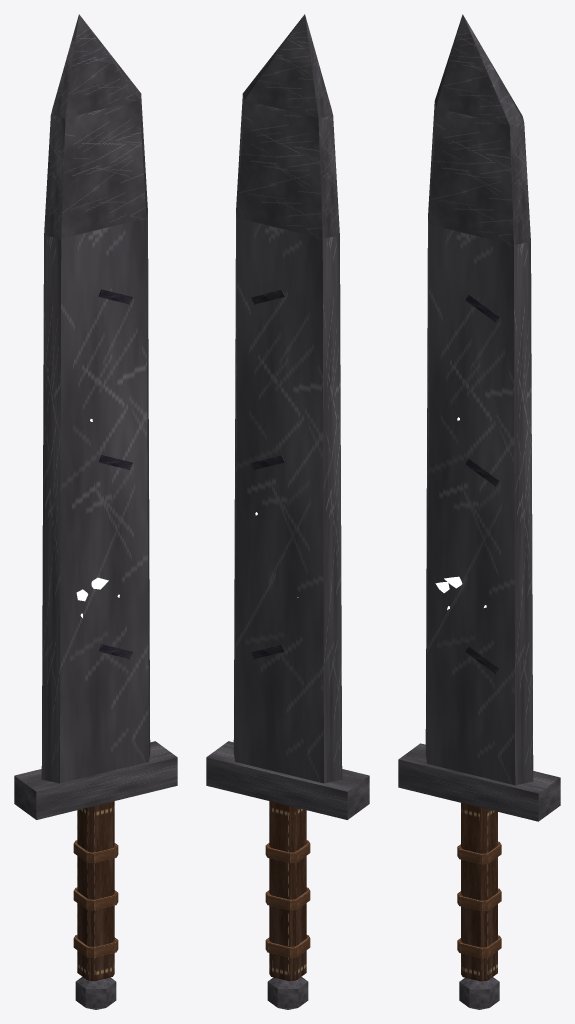
The model's file is DragonSlayer.fbx.
3 renders of one model, left to right at view 1: azimuth 30°, elevation 25°; view 2: azimuth 150°, elevation 25°; view 3: azimuth 330°, elevation 25°, orthographic.
Parts seen in each view (by area): view 1: Blade, Handle, Guard, Pommel; view 2: Blade, Handle, Guard, Pommel; view 3: Blade, Handle, Guard, Pommel.
Boxes of the visible parts, bbox=[...] form: Blade: bbox=[41, 14, 150, 783]; Handle: bbox=[73, 801, 118, 981]; Guard: bbox=[14, 741, 177, 819]; Pommel: bbox=[75, 977, 116, 1009]; Blade: bbox=[233, 14, 342, 783]; Handle: bbox=[265, 801, 310, 981]; Guard: bbox=[206, 741, 369, 819]; Pommel: bbox=[267, 977, 308, 1009]; Blade: bbox=[425, 14, 533, 785]; Handle: bbox=[457, 803, 501, 981]; Guard: bbox=[398, 743, 560, 821]; Pommel: bbox=[459, 977, 499, 1009].
Bounding box in the file's own units: 125 × 846 × 54.83.
Materials: 2 (1 with a texture image).
